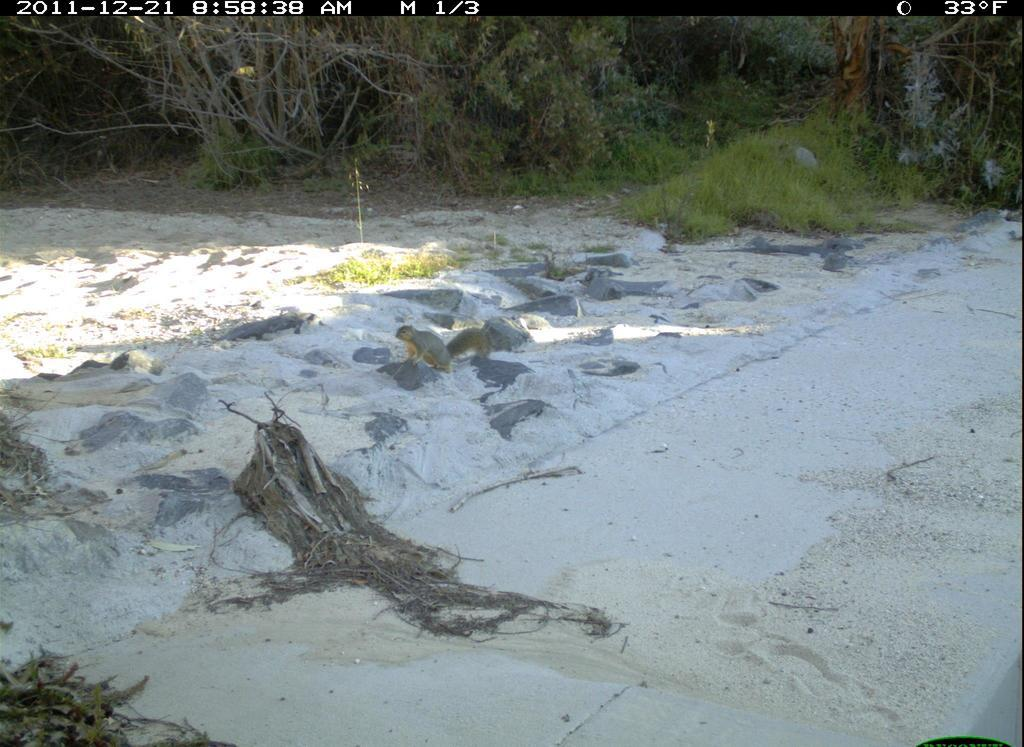squirrel: (390, 318, 500, 376)
